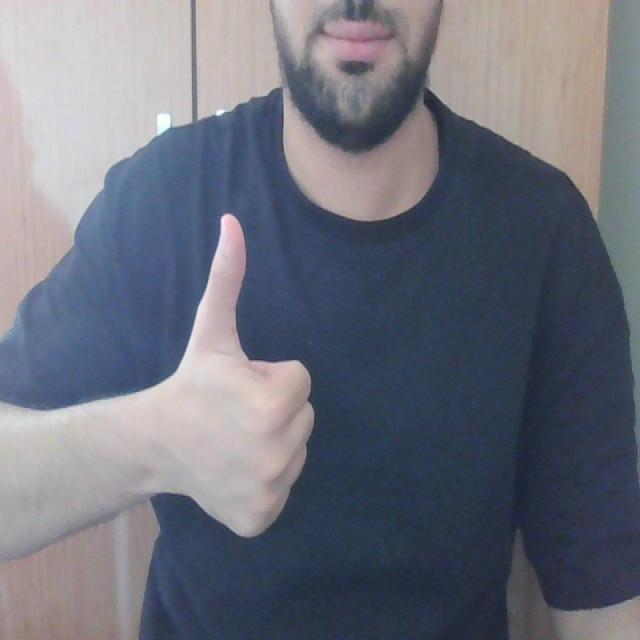Tamam: (162, 206, 325, 546)
